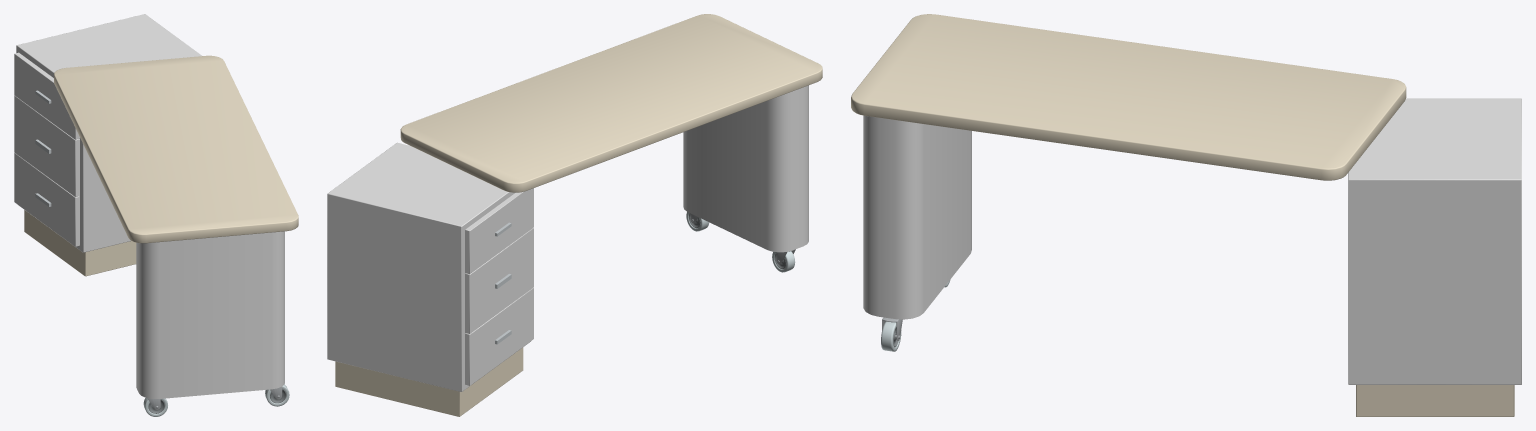
File: RollingDesk.fbx
The picture shows the model from 3 angles, left to right: view 1: azimuth 30°, elevation 25°; view 2: azimuth 150°, elevation 25°; view 3: azimuth 270°, elevation 25°; orthographic projection. The views are drawn at different scales.
Visible parts, largest first — view 1: Desk_2, Chest, Wheel_1_13, Wheel_1_14; view 2: Desk_2, Chest; view 3: Desk_2, Chest.
Boxes of the visible parts, x1=… form: Desk_2: x1=54, y1=55, x2=298, y2=398; Chest: x1=14, y1=14, x2=201, y2=276; Wheel_1_13: x1=265, y1=384, x2=289, y2=406; Wheel_1_14: x1=143, y1=398, x2=167, y2=416; Desk_2: x1=400, y1=14, x2=822, y2=252; Chest: x1=327, y1=142, x2=533, y2=416; Desk_2: x1=851, y1=14, x2=1406, y2=319; Chest: x1=1348, y1=98, x2=1521, y2=416.
Bounding box in the file's own units: 99.27 × 75.23 × 181.
